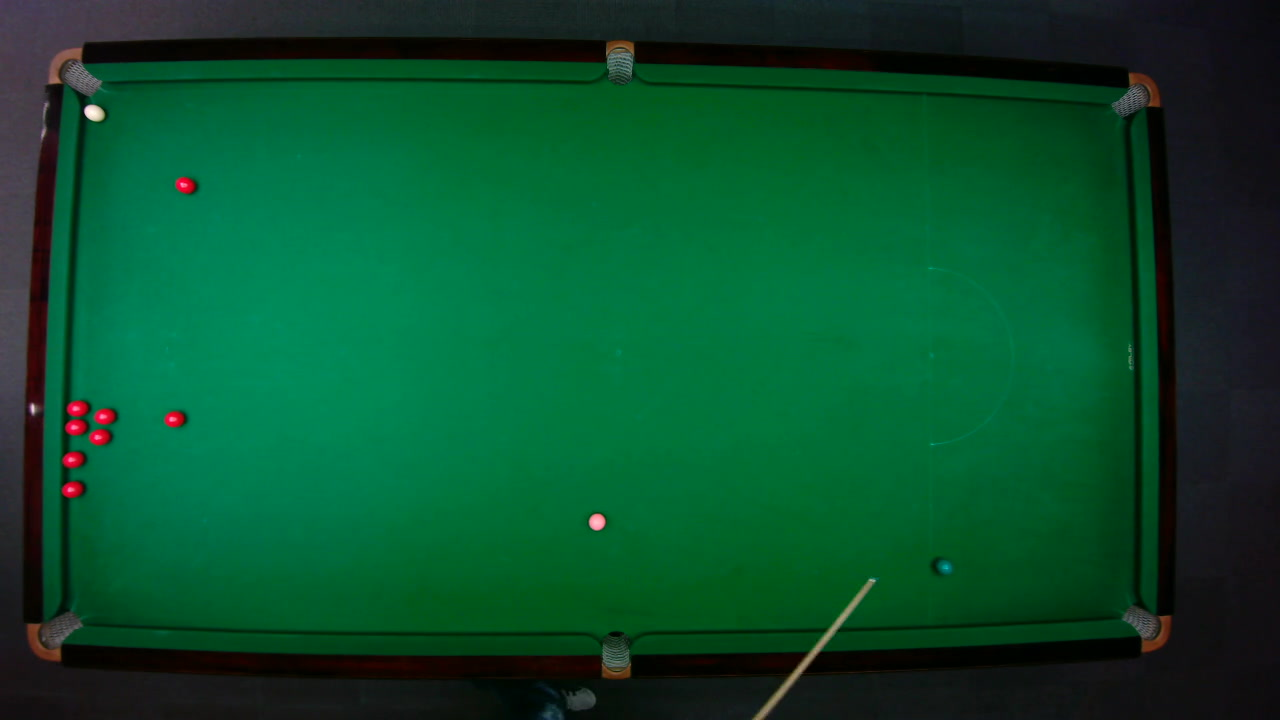bag: (25, 609, 83, 661), (45, 46, 102, 96), (1119, 603, 1171, 652), (1108, 71, 1161, 118), (600, 629, 630, 679), (605, 38, 633, 85)
cue: (753, 577, 875, 719)
green: (933, 557, 954, 575)
pink: (587, 511, 607, 531)
red: (64, 398, 89, 417), (60, 449, 85, 468), (173, 175, 196, 194), (60, 479, 84, 497), (63, 417, 87, 435), (93, 406, 116, 424), (88, 427, 111, 445), (162, 409, 185, 427)
white: (82, 102, 106, 122)
zone: (927, 265, 1013, 445)
